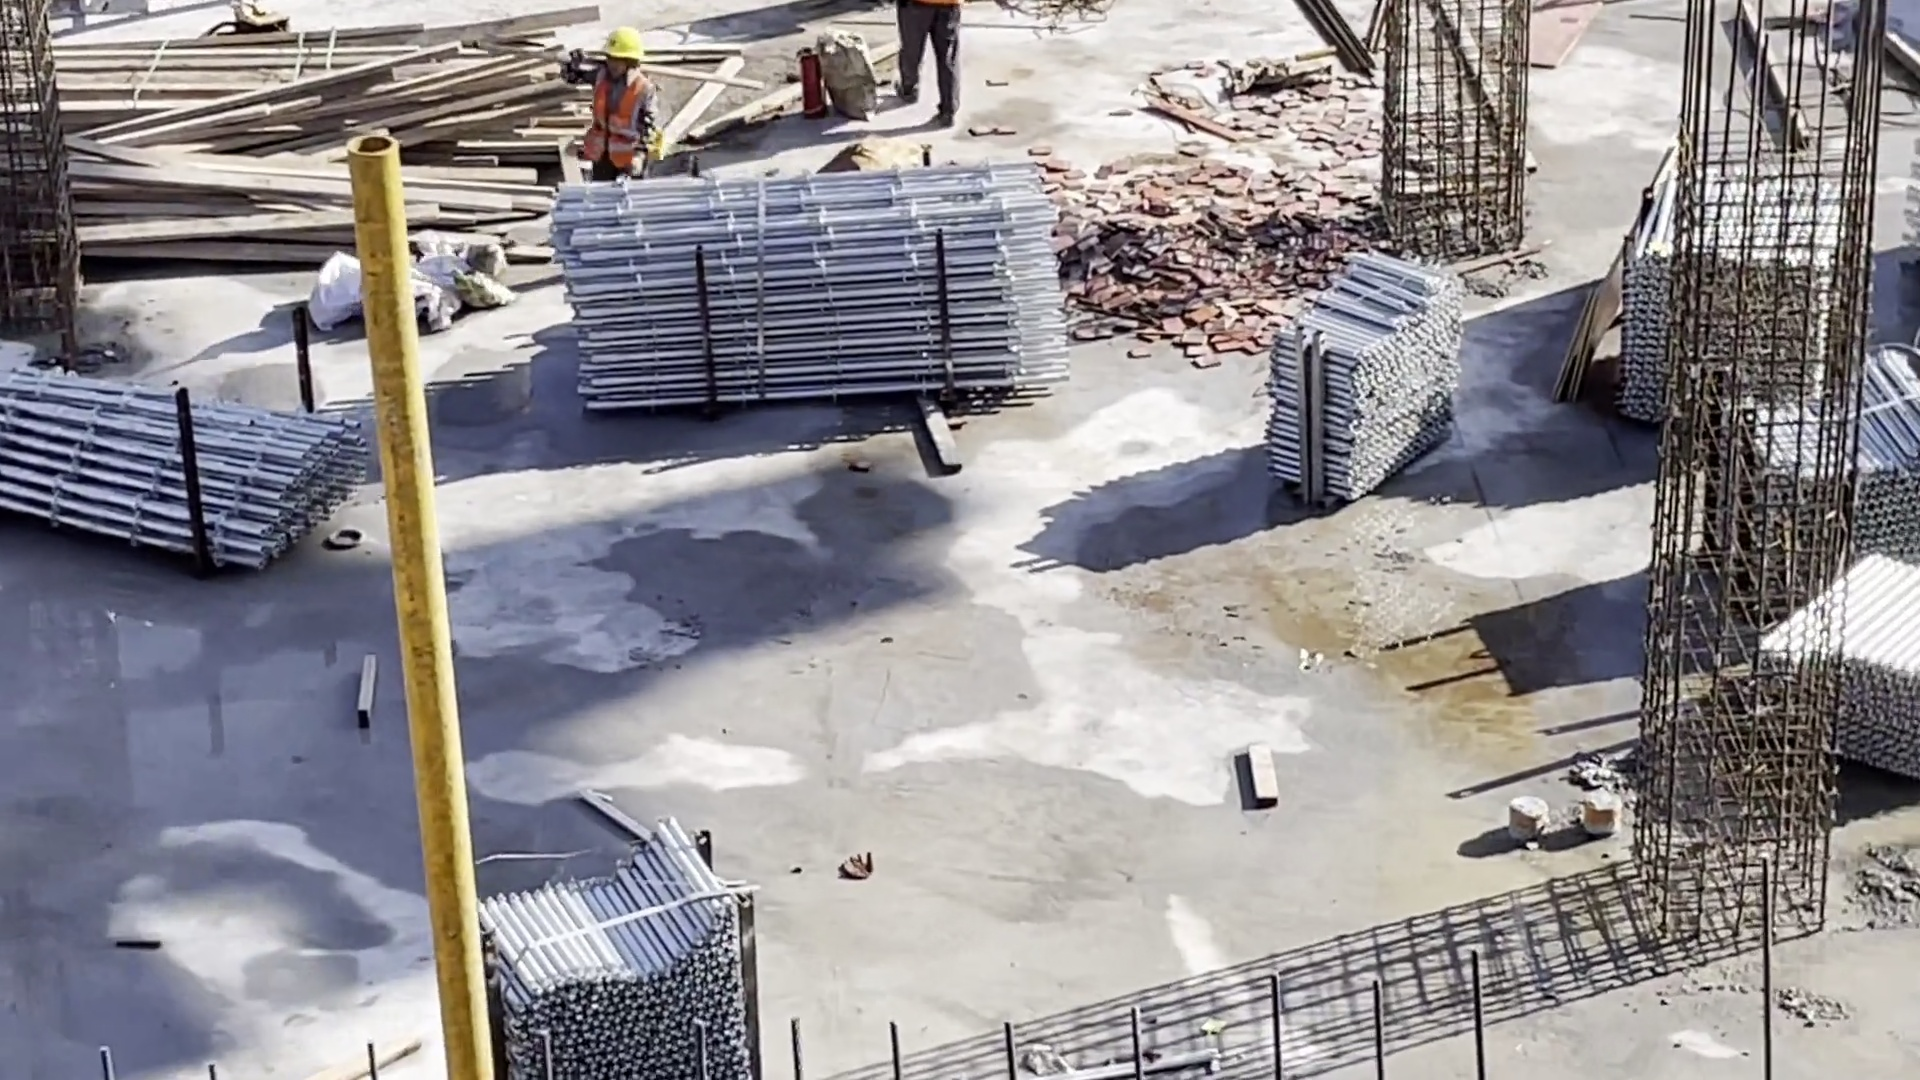helmet: (598, 26, 643, 62)
person: (568, 20, 653, 188), (879, 1, 976, 138)
scaffold: (546, 161, 1070, 436), (1, 364, 442, 571), (468, 808, 759, 1080), (1620, 144, 1847, 427), (1257, 249, 1463, 504), (1747, 550, 1920, 786), (1727, 365, 1920, 571)
vest: (589, 67, 651, 182)
wood: (62, 25, 585, 296)
